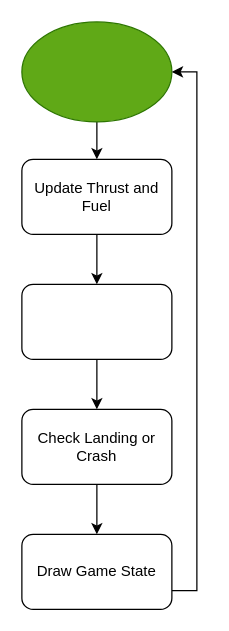
Some shapes in this 229 by 631 pixel diagram are drawn without their labels. Here are the shapes that lost their labels. From the top down, the box of each, then its label:
(21, 21, 172, 122): Read Player Input
(21, 283, 172, 359): Update Motion
